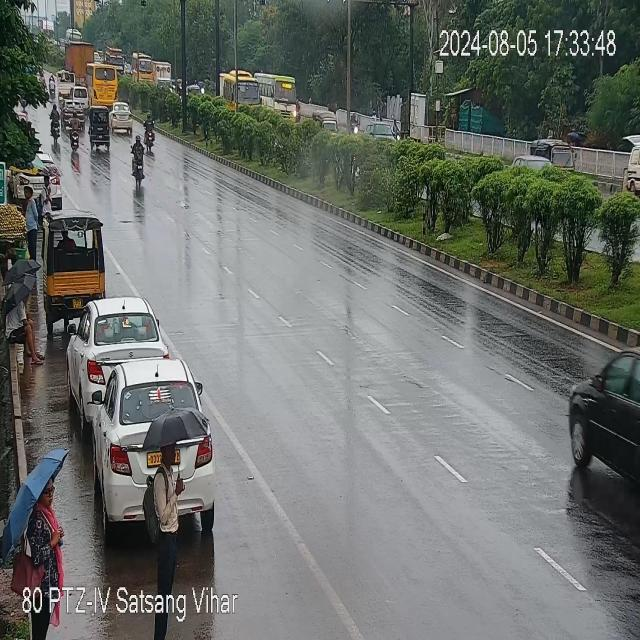2-wheelers: (131, 133, 146, 186), (50, 102, 61, 146), (144, 111, 155, 151), (70, 111, 79, 152), (47, 74, 55, 96)
auto: (41, 213, 108, 316), (530, 134, 578, 174), (84, 106, 110, 152)
bus: (257, 70, 298, 117), (218, 67, 256, 113), (84, 64, 119, 104), (132, 51, 154, 84)
car: (90, 362, 207, 487), (565, 333, 639, 488), (69, 300, 164, 406), (18, 158, 62, 213), (109, 102, 133, 134), (63, 97, 84, 126), (72, 86, 90, 115), (42, 174, 52, 214)
pedestrian: (146, 414, 184, 572), (31, 467, 68, 588), (5, 284, 49, 372), (22, 182, 38, 264)
truck: (65, 41, 93, 83), (58, 72, 70, 96)
